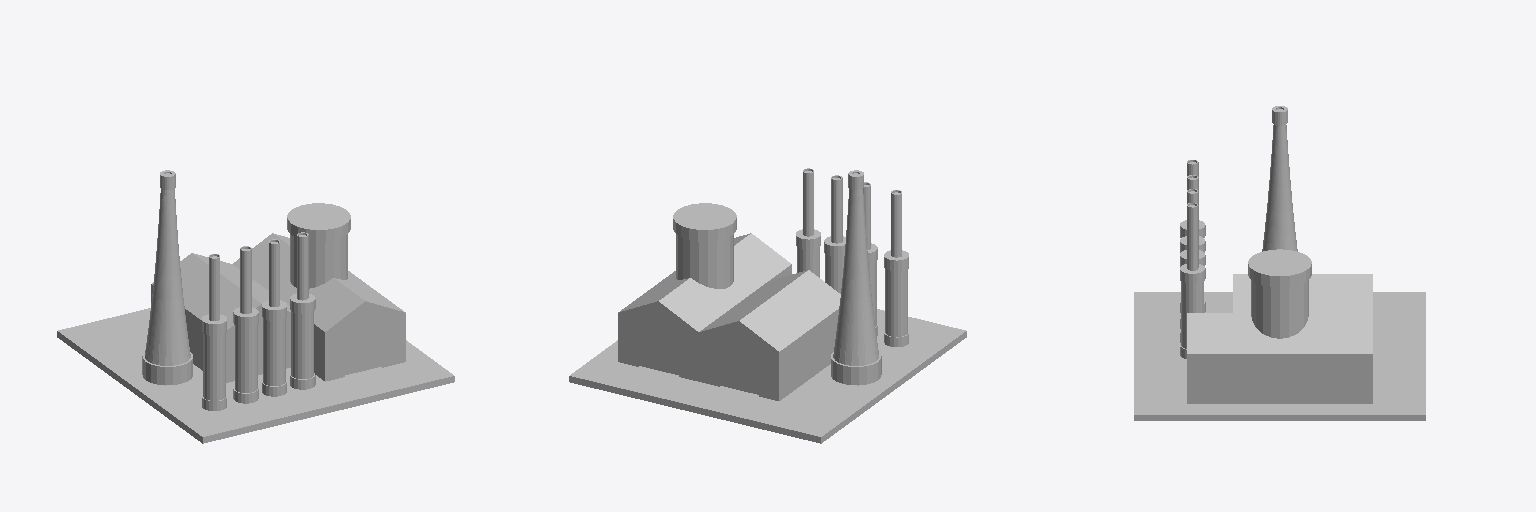
The model's file is Horno 1.obj.
The picture shows the model from 3 angles: view 1: azimuth 30°, elevation 25°; view 2: azimuth 150°, elevation 25°; view 3: azimuth 270°, elevation 25°; orthographic projection.
Visible parts, largest first — view 1: Floor, Chimney ChimneyBody, MainBuilding1 MainBuilding Sides1, FrontAndBack1 MainBuilding1 MainBuilding, Sides2 MainBuilding2 PipesBuilding, FuelPipeTop1 FuelPipe, FuelPipe FuelPipeMid1, Pipe2 PipeMid2, Pipe3 PipeMid3, PipeMid4 Pipe4, Pipe1 PipeMid1, Chimney ChimneyBottom (+5 smaller); view 2: Floor, Sides2 MainBuilding2 PipesBuilding, MainBuilding1 MainBuilding Sides1, Chimney ChimneyBody, FrontAndBack1 MainBuilding1 MainBuilding, MainBuilding2 PipesBuilding FrontAndBack2, FuelPipe FuelPipeMid1, FuelPipeTop1 FuelPipe, Pipe1 PipeMid1, Chimney ChimneyBottom, Pipe3 PipeEnd3 PipeTube3, Pipe4 PipeEnd4 PipeTube4 (+5 smaller); view 3: Floor, MainBuilding1 MainBuilding Sides1, Sides2 MainBuilding2 PipesBuilding, Chimney ChimneyBody, FuelPipe FuelPipeMid1, FuelPipeTop1 FuelPipe, PipeMid4 Pipe4, Pipe4 PipeEnd4 PipeTube4.
Boxes of the visible parts, x1,y1,x2,y2 form: Floor: [57, 308, 454, 443]; Chimney ChimneyBody: [145, 189, 190, 365]; MainBuilding1 MainBuilding Sides1: [233, 233, 405, 380]; FrontAndBack1 MainBuilding1 MainBuilding: [325, 301, 405, 381]; Sides2 MainBuilding2 PipesBuilding: [151, 253, 290, 370]; FuelPipeTop1 FuelPipe: [287, 203, 350, 241]; FuelPipe FuelPipeMid1: [290, 234, 347, 288]; Pipe2 PipeMid2: [235, 325, 257, 392]; Pipe3 PipeMid3: [263, 318, 285, 385]; PipeMid4 Pipe4: [291, 311, 313, 378]; Pipe1 PipeMid1: [203, 333, 225, 400]; Chimney ChimneyBottom: [142, 352, 192, 385]; Floor: [569, 309, 966, 443]; Sides2 MainBuilding2 PipesBuilding: [700, 270, 840, 400]; MainBuilding1 MainBuilding Sides1: [618, 233, 791, 331]; Chimney ChimneyBody: [833, 189, 878, 365]; FrontAndBack1 MainBuilding1 MainBuilding: [618, 301, 698, 381]; MainBuilding2 PipesBuilding FrontAndBack2: [699, 321, 778, 400]; FuelPipe FuelPipeMid1: [676, 234, 733, 288]; FuelPipeTop1 FuelPipe: [673, 203, 736, 241]; Pipe1 PipeMid1: [885, 269, 907, 336]; Chimney ChimneyBottom: [831, 352, 881, 385]; Pipe3 PipeEnd3 PipeTube3: [831, 175, 842, 243]; Pipe4 PipeEnd4 PipeTube4: [803, 168, 813, 236]; Floor: [1134, 292, 1425, 420]; MainBuilding1 MainBuilding Sides1: [1187, 313, 1372, 403]; Sides2 MainBuilding2 PipesBuilding: [1233, 274, 1372, 312]; Chimney ChimneyBody: [1262, 125, 1297, 251]; FuelPipe FuelPipeMid1: [1251, 280, 1308, 338]; FuelPipeTop1 FuelPipe: [1248, 249, 1311, 287]; PipeMid4 Pipe4: [1181, 281, 1203, 348]; Pipe4 PipeEnd4 PipeTube4: [1187, 203, 1198, 270].
Size of the model in its own units: 200 by 158 by 200.